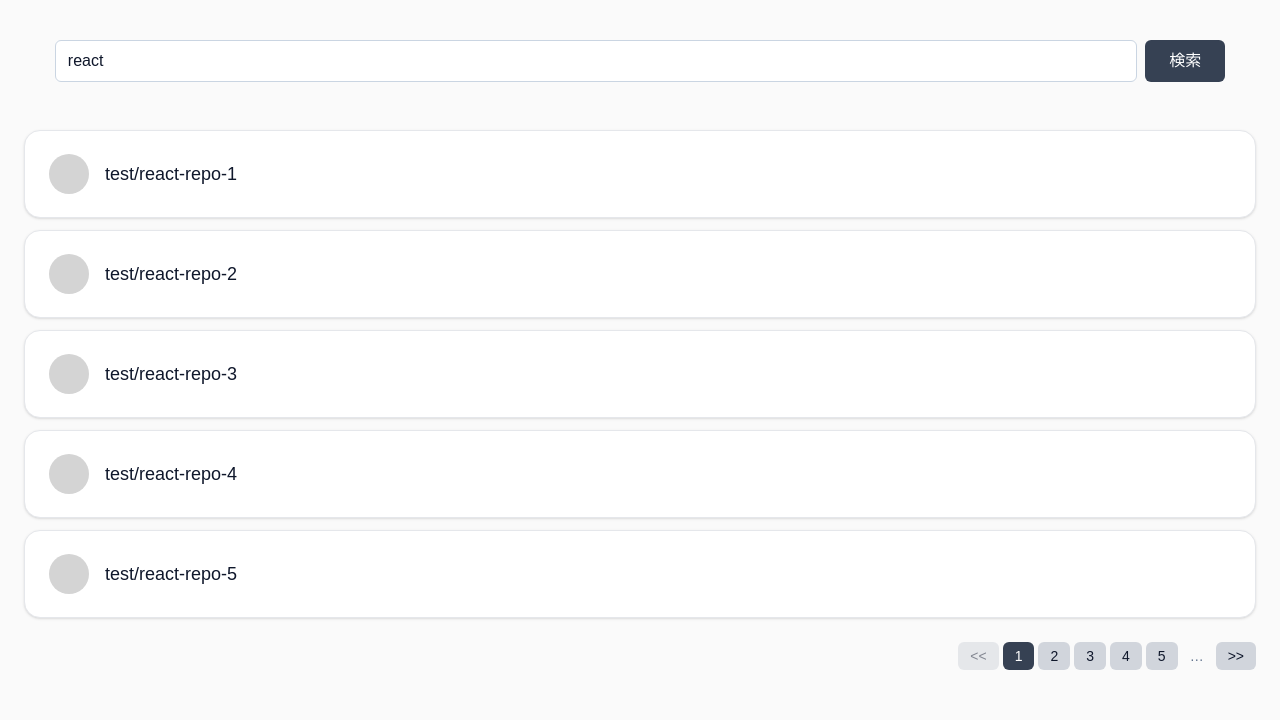
Test case: TopPage › ページ切り替えでURLが更新され、表示（5件）が切り替わる
Check: the button "test/react-repo-1" is shown, box top-left (24, 130), bottom-right (1256, 218)
What coordinates should you click on to do the following:
click the button "2"
I would click on:
 (1054, 656)
Its box is top-left (1038, 642), bottom-right (1070, 670).
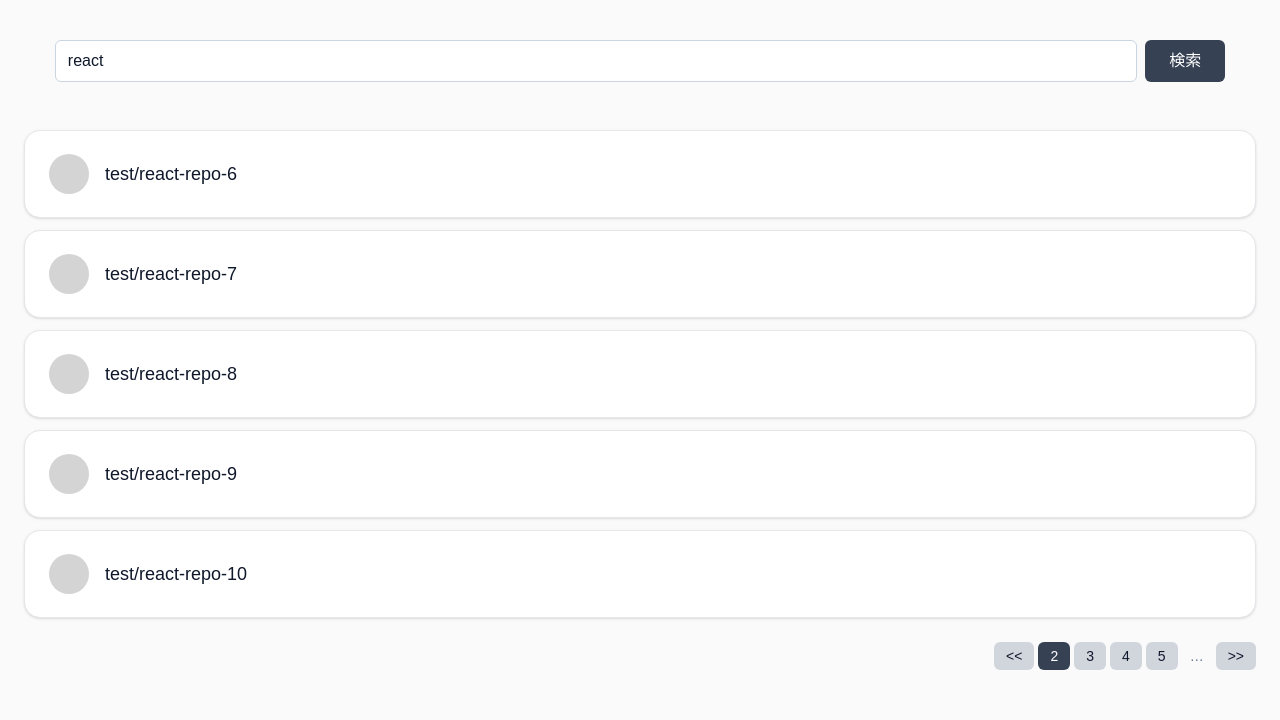
Check: the button "test/react-repo-6" is shown, box top-left (24, 130), bottom-right (1256, 218)
